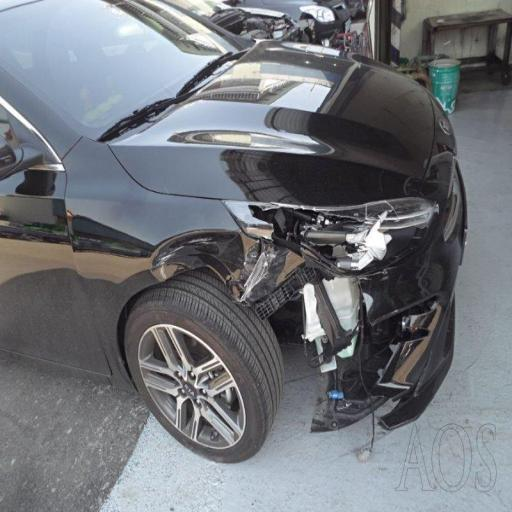broken: (176, 188, 461, 437)
dent: (149, 192, 257, 298)
